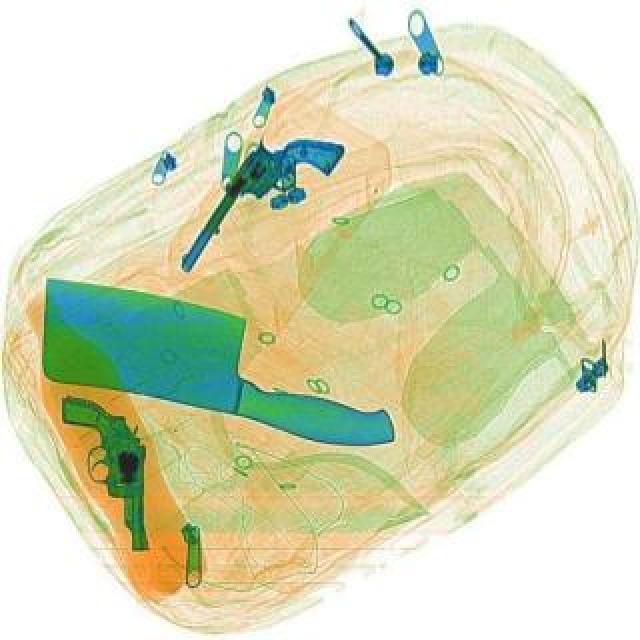gun: (174, 106, 348, 304), (56, 390, 156, 554)
knife: (22, 268, 420, 456)
